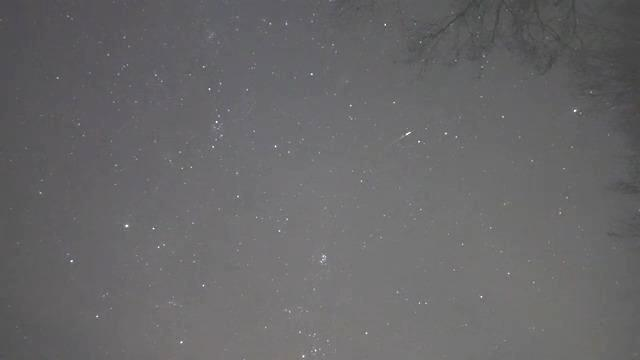meteorite: (390, 122, 418, 147)
